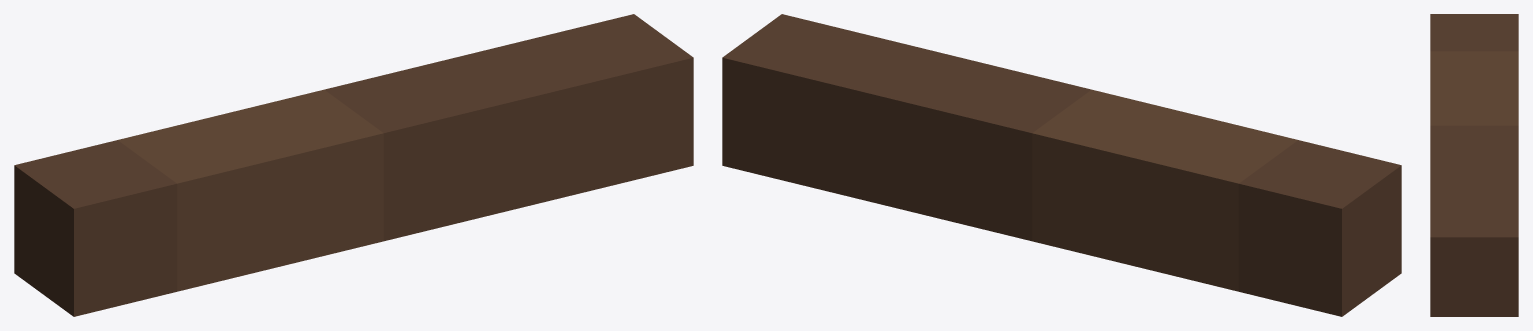
File: ConstructionMaterials-111.obj
3 views of the same model, side by side, from view 1: azimuth 30°, elevation 25°; view 2: azimuth 150°, elevation 25°; view 3: azimuth 270°, elevation 25° (orthographic). The views are drawn at different scales.
Size of the model in its own units: 0.6 by 0.1 by 0.1.
1 material, 1 textured.
